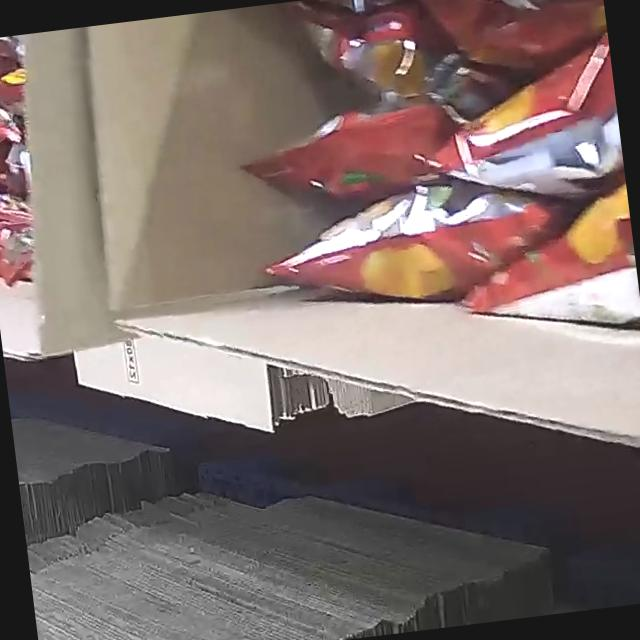masala: (216, 0, 640, 433), (0, 33, 60, 281)
